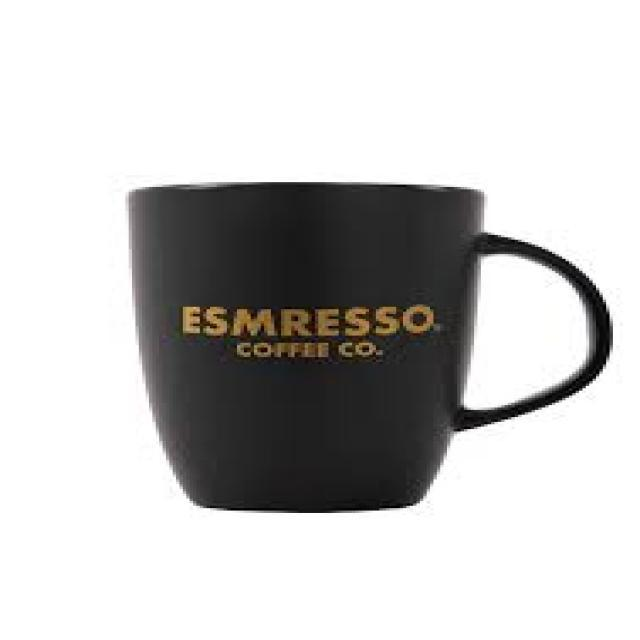taza: (128, 180, 612, 513)
